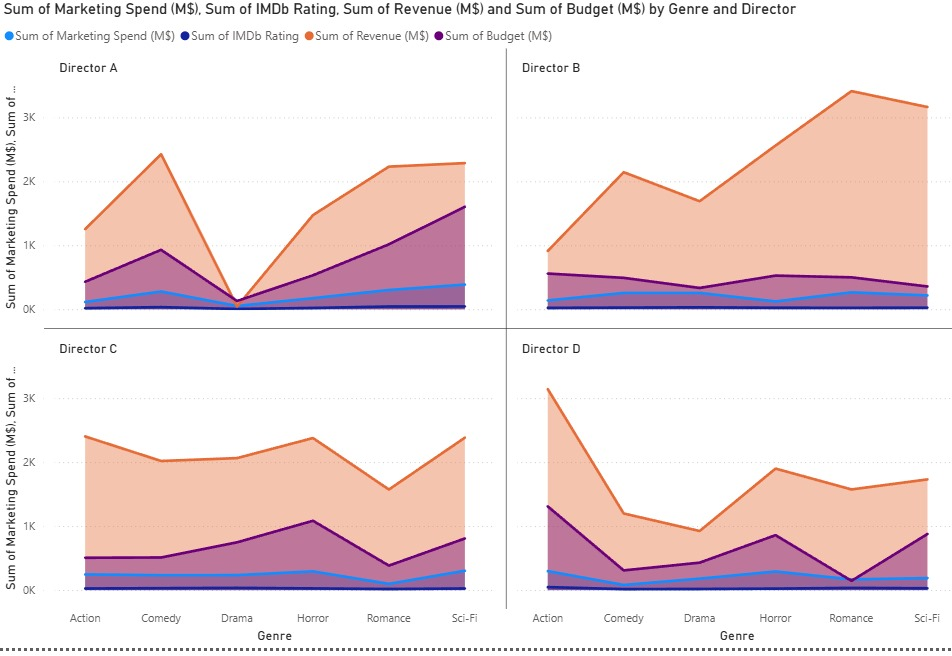

The dashboard page shown, as its layout file describes it:
{"tool":"powerbi","page":{"name":"Page 5","canvas":[1280,720],"ordinal":4},"visuals":[{"type":"areaChart","fields":{"Y":["Sum(cleaned_movies_dataset.Marketing Spend (M$))","Sum(cleaned_movies_dataset.IMDb Rating)","Sum(cleaned_movies_dataset.Revenue (M$))","Sum(cleaned_movies_dataset.Budget (M$))"],"Category":["cleaned_movies_dataset.Genre"],"Rows":["cleaned_movies_dataset.Director"]},"box":[10,0,1083.3,720],"z":0}]}

Visuals, with their boxes on the page's 1280x720 design canvas (x1, y1, x2, y2). These are canvas units, not pixel positions in the 952x656 screenshot, which may show the page scaled, cropped or inside an application window:
areaChart - Sum(cleaned_movies_dataset.Marketing Spend (M$)) x Sum(cleaned_movies_dataset.IMDb Rating): 10 0 1093 720
